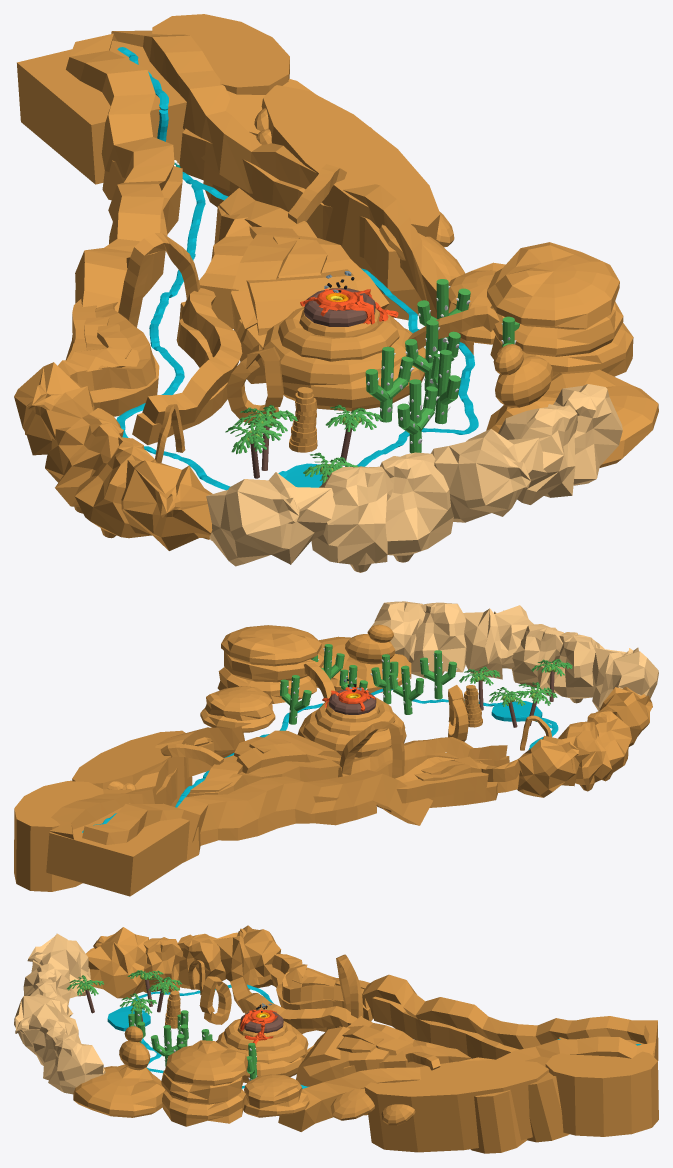
The picture shows the model from 3 angles, top to bottom: view 1: azimuth 30°, elevation 25°; view 2: azimuth 150°, elevation 25°; view 3: azimuth 270°, elevation 25°; orthographic projection. The views are drawn at different scales.
Parts seen in each view (by area): view 1: default; view 2: default; view 3: default.
Boxes of the visible parts, box(x1,y1,x2,y2) form: default: box(14, 14, 658, 572); default: box(14, 601, 658, 896); default: box(14, 925, 658, 1153).
Size of the model in its own units: 2.17 by 0.6131 by 3.47.
